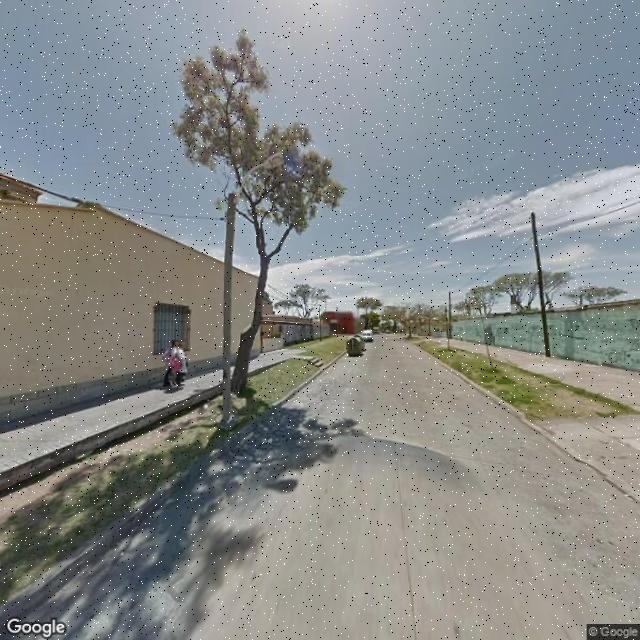garbage container: (339, 331, 371, 362)
